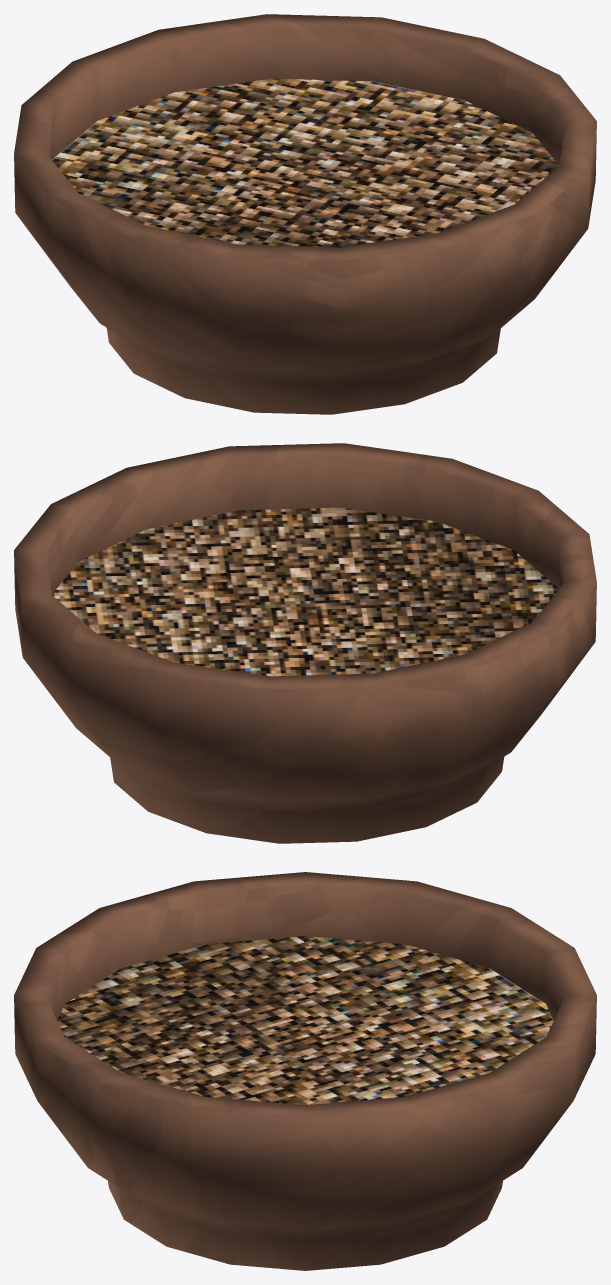
The model's file is Mdl_Bowl.fbx.
The picture shows the model from 3 angles, top to bottom: view 1: azimuth 30°, elevation 25°; view 2: azimuth 150°, elevation 25°; view 3: azimuth 270°, elevation 25°; orthographic projection.
Visible parts, largest first — view 1: bowl; view 2: bowl; view 3: bowl.
Boxes of the visible parts, left/top/right/bottom form: bowl: left=14, top=14, right=596, bottom=414; bowl: left=14, top=443, right=596, bottom=843; bowl: left=14, top=872, right=596, bottom=1270.
Bounding box in the file's own units: 58.81 × 21.45 × 58.81.
Materials: 2 (2 with a texture image).
